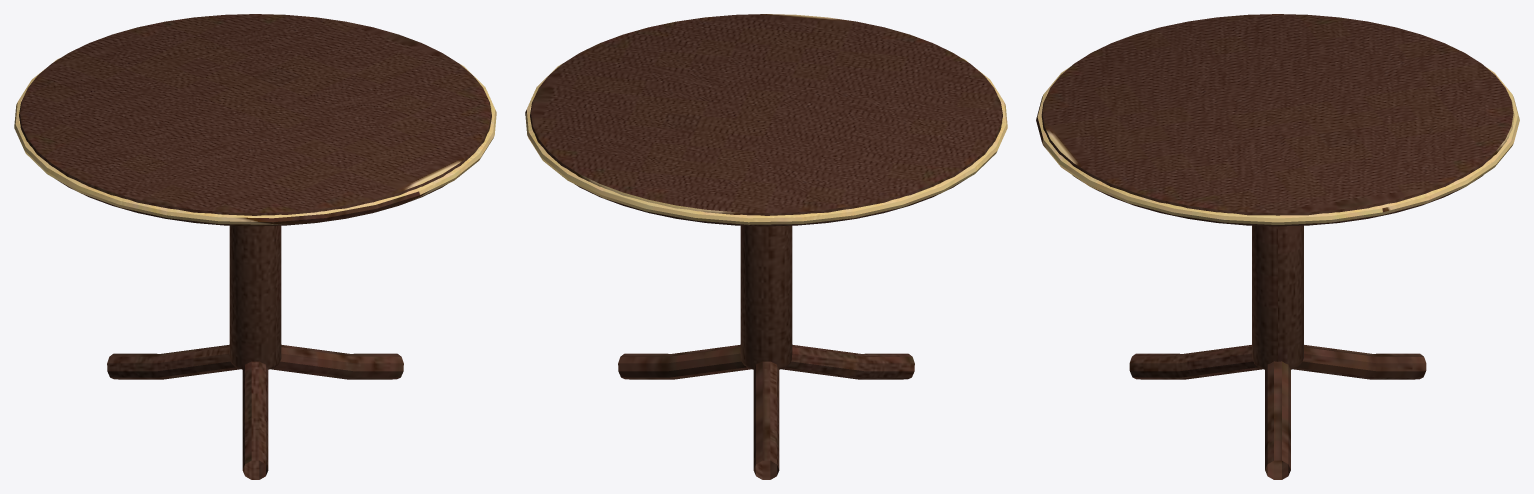
Rendered from table.glb.
The picture shows the model from 3 angles, left to right: view 1: azimuth 30°, elevation 25°; view 2: azimuth 150°, elevation 25°; view 3: azimuth 270°, elevation 25°; orthographic projection.
Parts seen in each view (by area): view 1: top, pillar, top_edge, foot0, foot1, foot2; view 2: top, pillar, top_edge, foot0, foot2, foot1; view 3: top, pillar, top_edge, foot1, foot2, foot0.
Part boxes in pixels (x1=…): top: x1=19, y1=14, x2=491, y2=226; pillar: x1=229, y1=225, x2=281, y2=369; top_edge: x1=14, y1=58, x2=496, y2=224; foot0: x1=270, y1=344, x2=403, y2=379; foot1: x1=107, y1=344, x2=240, y2=379; foot2: x1=242, y1=361, x2=268, y2=479; top: x1=530, y1=14, x2=1002, y2=226; pillar: x1=740, y1=225, x2=792, y2=369; top_edge: x1=525, y1=58, x2=1007, y2=224; foot0: x1=618, y1=344, x2=751, y2=379; foot2: x1=781, y1=344, x2=914, y2=379; foot1: x1=753, y1=361, x2=779, y2=479; top: x1=1041, y1=14, x2=1514, y2=226; pillar: x1=1252, y1=225, x2=1303, y2=369; top_edge: x1=1036, y1=67, x2=1519, y2=224; foot1: x1=1293, y1=345, x2=1426, y2=379; foot2: x1=1129, y1=345, x2=1262, y2=379; foot0: x1=1265, y1=361, x2=1290, y2=479.
Size of the model in its own units: 1.12 by 0.7678 by 1.12.
Materials: 1 (1 with a texture image).
